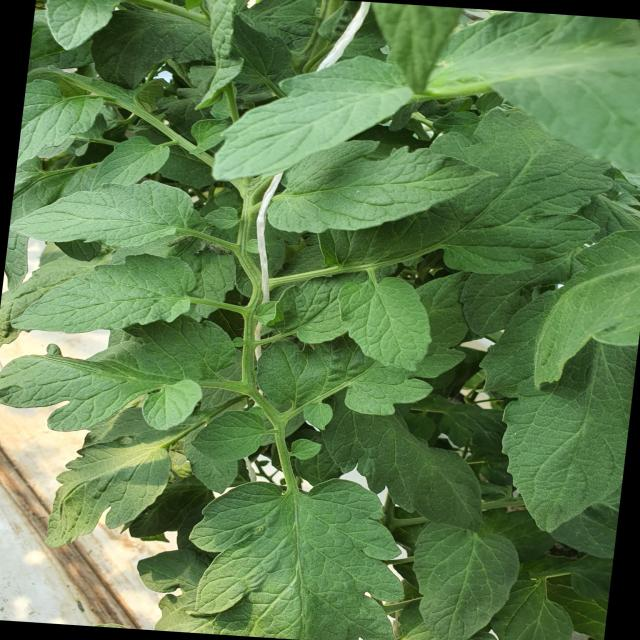Healthy Leaf: (185, 474, 418, 640), (209, 55, 418, 186), (265, 139, 506, 239), (498, 373, 640, 539), (2, 251, 203, 338), (39, 437, 179, 555), (409, 518, 528, 640), (337, 274, 432, 380)
